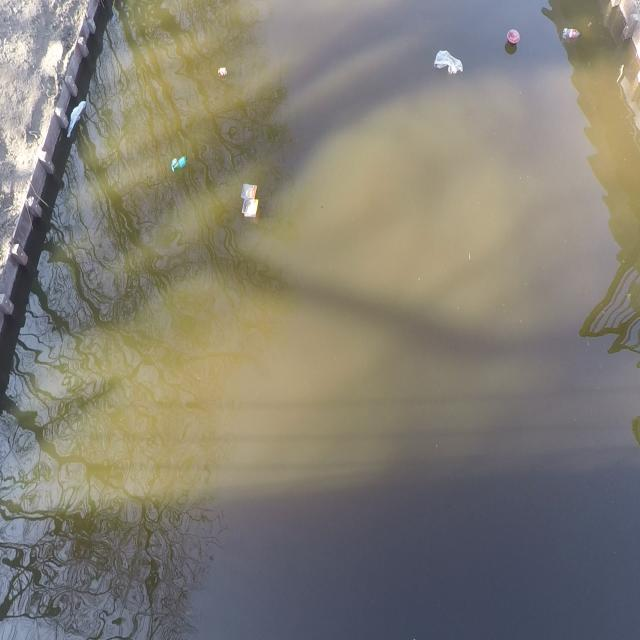Bouteille plastique: (169, 156, 190, 172), (562, 26, 582, 42)
Non plastique: (218, 66, 228, 80)
Sac plastique: (433, 48, 465, 77)
